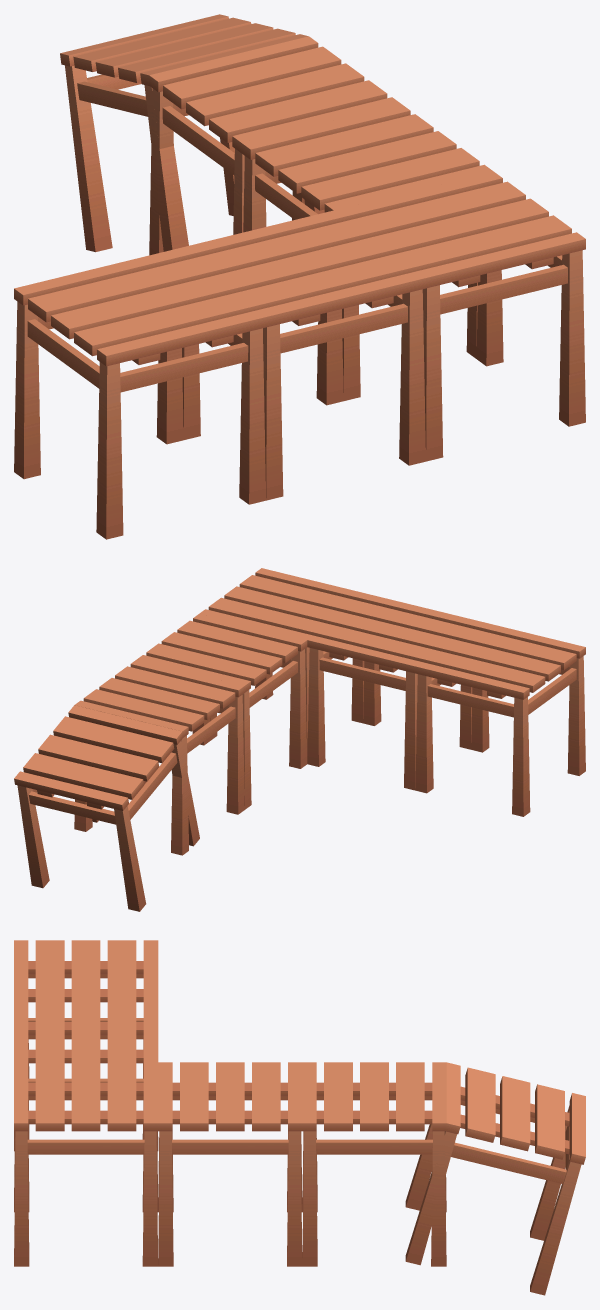
The model's file is dock.glb.
3 views of the same model, one above another, from view 1: azimuth 30°, elevation 25°; view 2: azimuth 150°, elevation 25°; view 3: azimuth 270°, elevation 25° (orthographic). The views are drawn at different scales.
Parts seen in each view (by area): view 1: structure-floor3; view 2: structure-floor3; view 3: structure-floor3.
Part boxes in pixels (x1,y1,x2,y2): structure-floor3: [14, 14, 585, 539]; structure-floor3: [14, 568, 585, 911]; structure-floor3: [14, 940, 585, 1295].
Bounding box in the file's own units: 6 × 2.64 × 7.93.
1 material, 1 textured.
